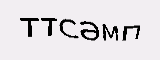М: (41, 17, 60, 37)
О: (74, 19, 91, 41), (91, 19, 108, 41)
С: (106, 19, 123, 40)
Ч: (60, 20, 75, 40)
